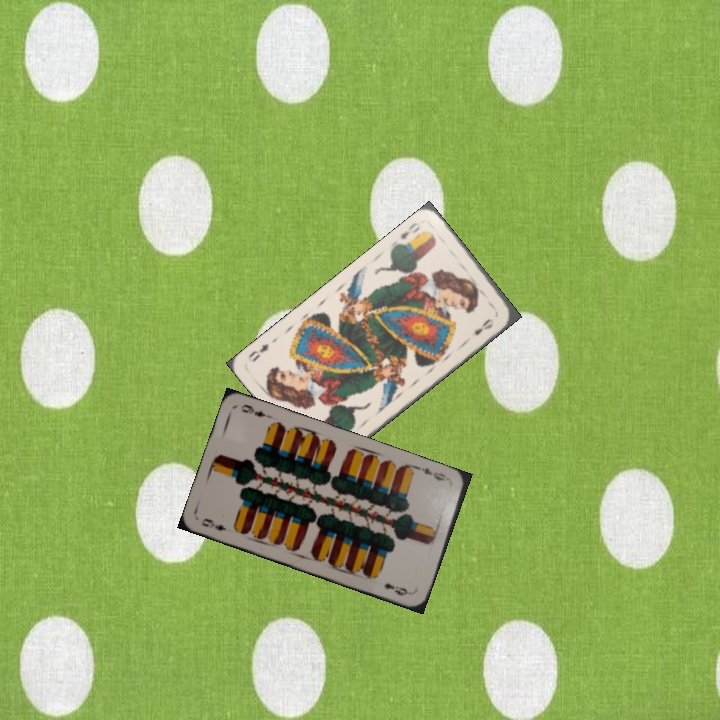E9: (414, 463, 453, 485), (198, 514, 229, 534)
EO: (396, 218, 423, 242)
